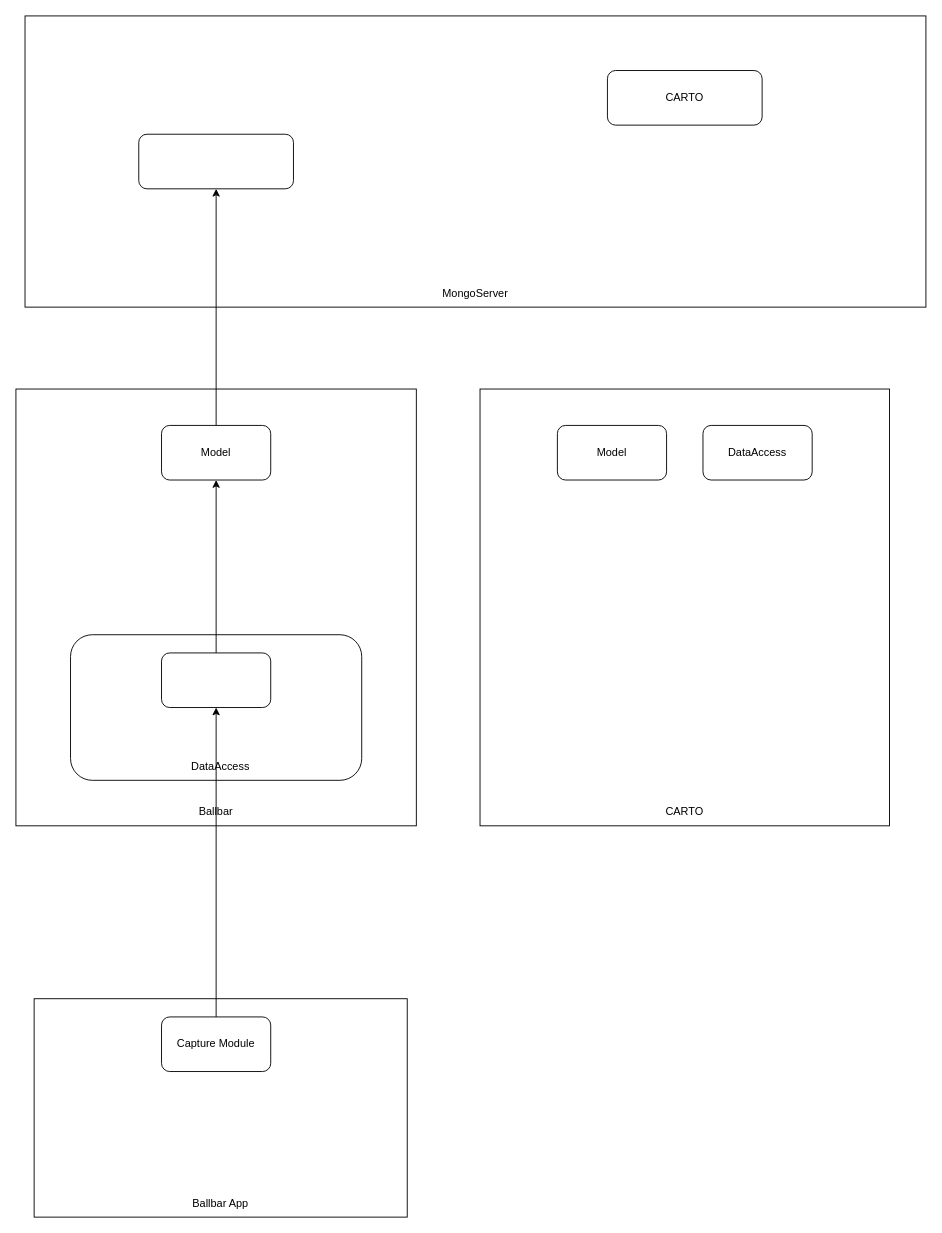
Image size: 942x1233. Some labels were removed from this diagram. Here are the shapes that lost their labels. From the top down, the centre of each, then its label:
At pixel 215 161: "BallbarDB".
At pixel 216 680: "Repository".
